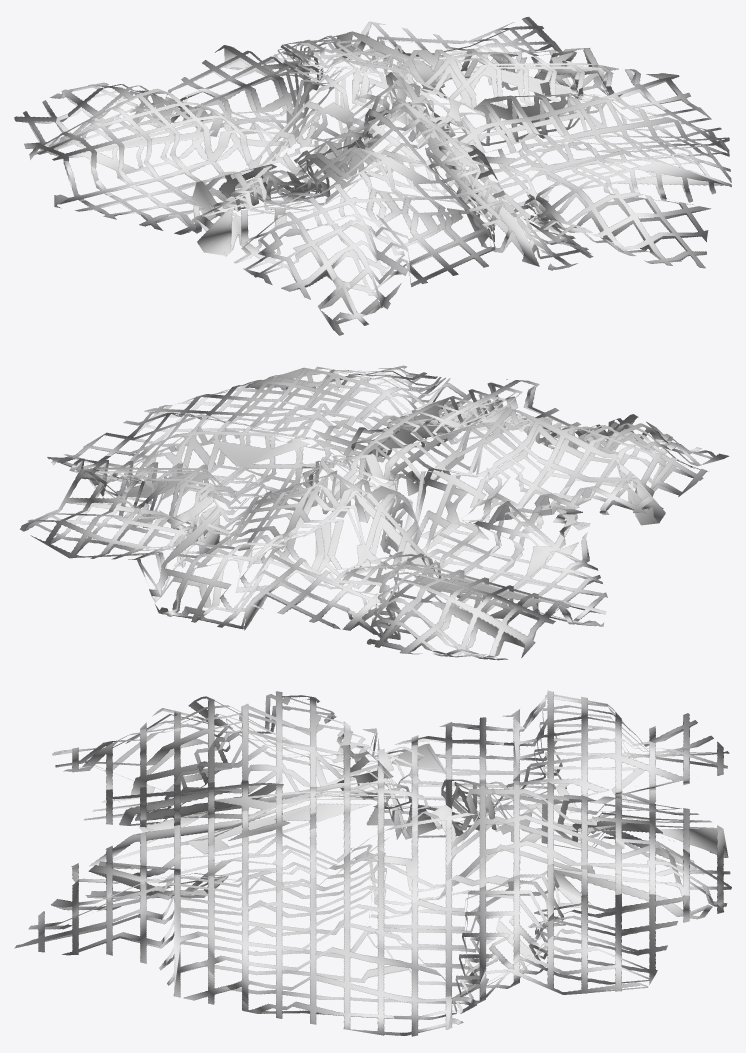
3 views of the same model, one above another, from view 1: azimuth 30°, elevation 25°; view 2: azimuth 150°, elevation 25°; view 3: azimuth 270°, elevation 25° (orthographic). The views are drawn at different scales.
Parts seen in each view (by area): view 1: BasicNet.Light.002; view 2: BasicNet.Light.002; view 3: BasicNet.Light.002.
Part boxes in pixels (x1=…): BasicNet.Light.002: x1=14, y1=17, x2=731, y2=335; BasicNet.Light.002: x1=20, y1=365, x2=729, y2=660; BasicNet.Light.002: x1=14, y1=690, x2=731, y2=1036.
Bounding box in the file's own units: 309 × 43.59 × 291.
1 material, 1 textured.
